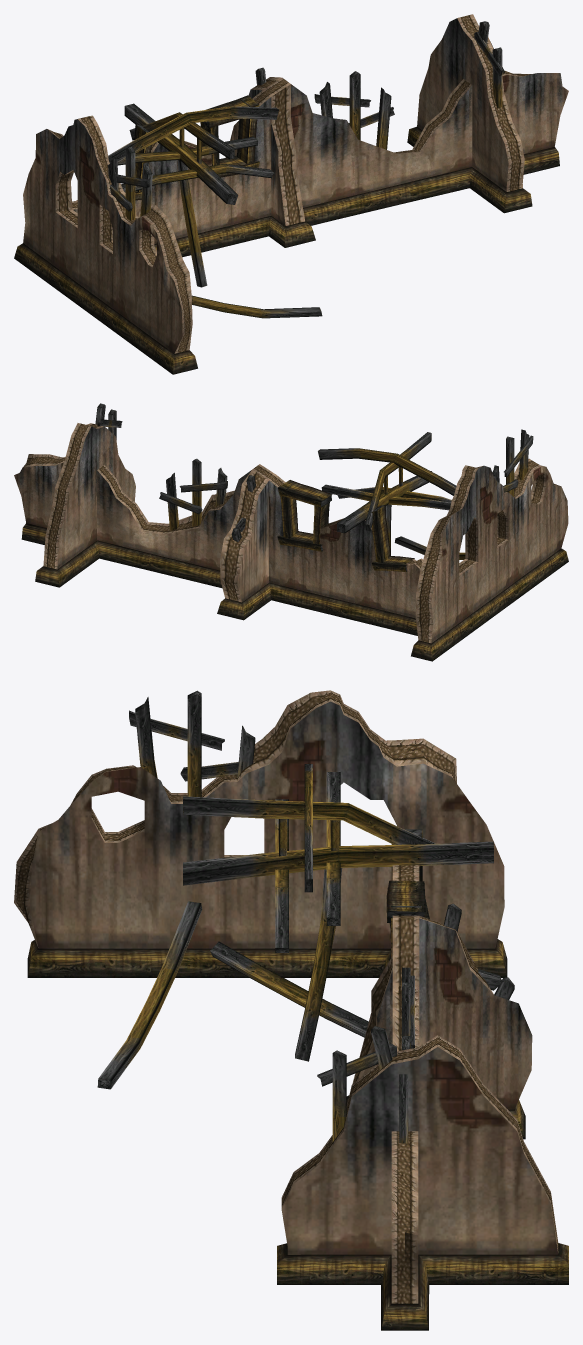
The model's file is CB_BRKN_BUILDING08.fbx.
The picture shows the model from 3 angles, top to bottom: view 1: azimuth 30°, elevation 25°; view 2: azimuth 150°, elevation 25°; view 3: azimuth 270°, elevation 25°; orthographic projection. The views are drawn at different scales.
Parts seen in each view (by area): view 1: CB_BRKN_BUILDING08; view 2: CB_BRKN_BUILDING08; view 3: CB_BRKN_BUILDING08.
Part boxes in pixels (bbox=[...]): CB_BRKN_BUILDING08: bbox=[14, 14, 568, 374]; CB_BRKN_BUILDING08: bbox=[14, 403, 568, 661]; CB_BRKN_BUILDING08: bbox=[14, 690, 568, 1330].
Size of the model in its own units: 418742 by 148210 by 258079.
8 materials, 8 textured.
